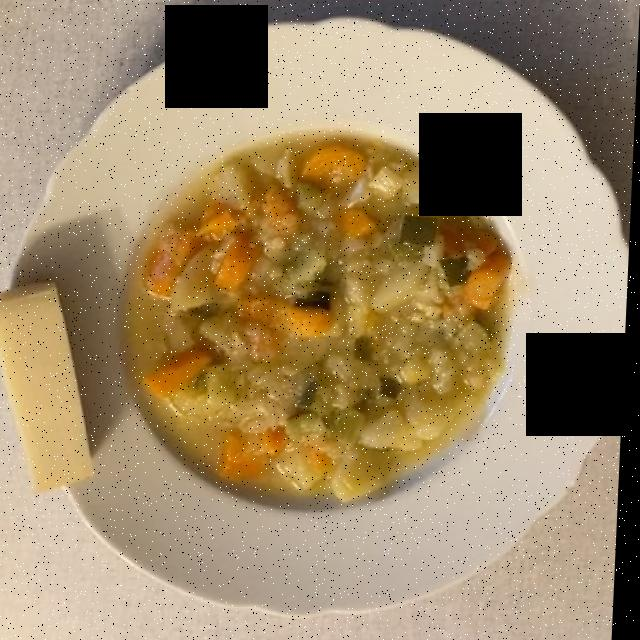soup-vegetable: (141, 143, 509, 494)
